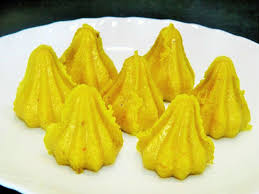modak: (138, 95, 224, 180), (103, 53, 174, 140), (191, 53, 259, 132), (15, 40, 77, 122), (137, 20, 203, 96), (58, 78, 113, 166), (61, 25, 111, 87)
